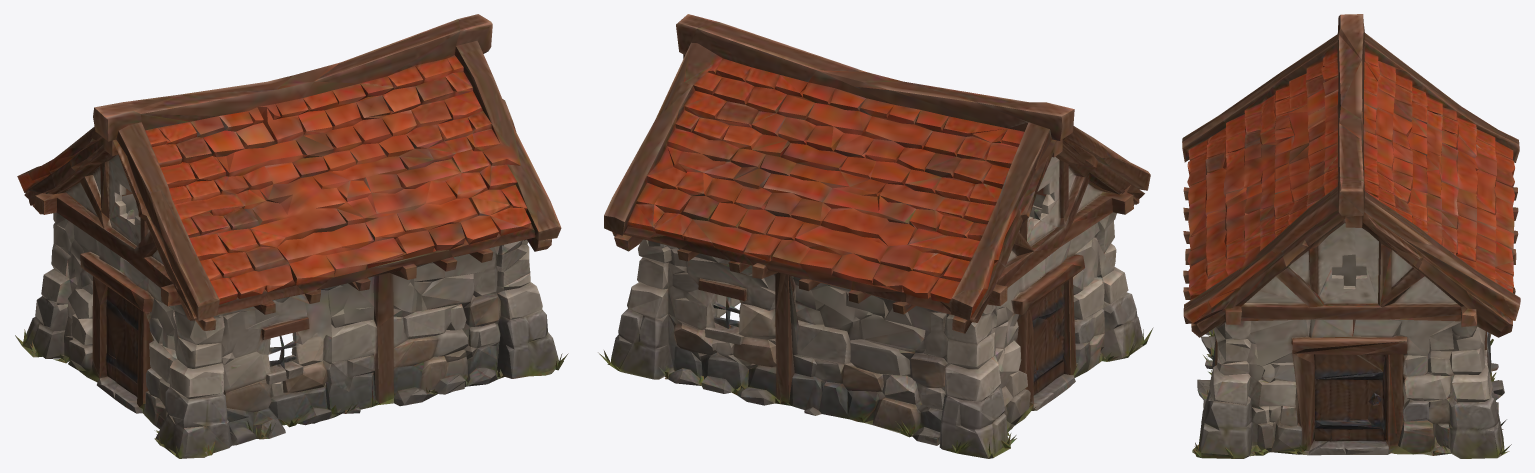
The model's file is storage.glb.
3 renders of one model, left to right at view 1: azimuth 30°, elevation 25°; view 2: azimuth 150°, elevation 25°; view 3: azimuth 270°, elevation 25°, orthographic. The views are drawn at different scales.
Size of the model in its own units: 1.89 by 1.33 by 1.5.
1 material, 1 textured.
